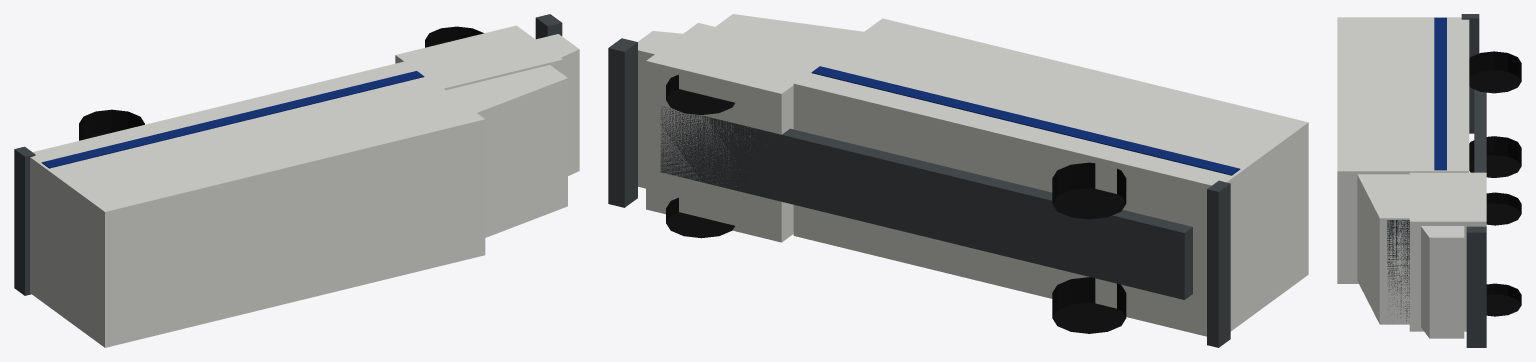
File: usps_international_24ft_box_truck_cm.obj
The picture shows the model from 3 angles, left to right: view 1: azimuth 30°, elevation 25°; view 2: azimuth 150°, elevation 25°; view 3: azimuth 270°, elevation 25°; orthographic projection. The views are drawn at different scales.
Visible parts, largest first — view 1: USPS_International_24ft_Box_Truck; view 2: USPS_International_24ft_Box_Truck; view 3: USPS_International_24ft_Box_Truck.
Part boxes in pixels (x1=…): USPS_International_24ft_Box_Truck: x1=14, y1=14, x2=579, y2=347; USPS_International_24ft_Box_Truck: x1=608, y1=14, x2=1308, y2=347; USPS_International_24ft_Box_Truck: x1=1337, y1=14, x2=1521, y2=347.
Size of the model in its own units: 1040 by 256 by 370.
